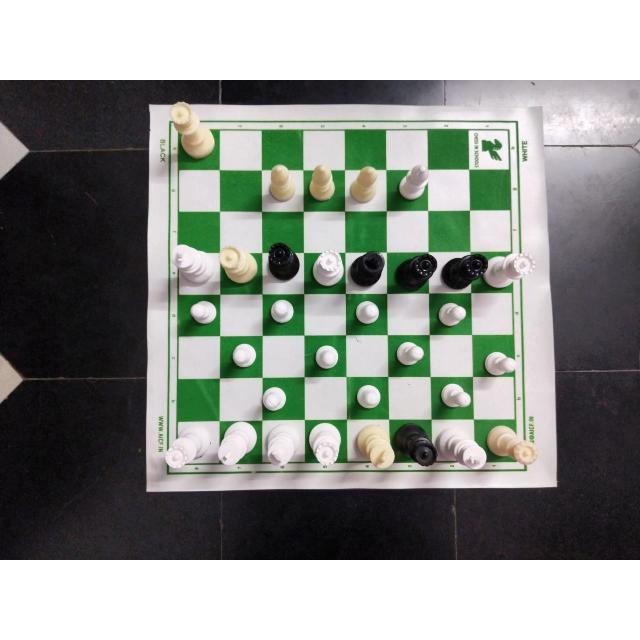black-king: (353, 249, 385, 290)
black-queen: (445, 246, 489, 298), (391, 246, 437, 288), (396, 422, 436, 470), (269, 241, 303, 289)
white-bishop: (394, 159, 431, 201), (267, 160, 297, 200), (351, 167, 378, 209), (310, 164, 333, 204)
white-king: (167, 240, 214, 292), (439, 425, 491, 469), (354, 426, 394, 472), (220, 423, 260, 467), (262, 425, 304, 465)
white-pawn: (482, 346, 518, 378), (182, 299, 219, 329), (437, 381, 475, 410), (352, 293, 381, 329), (392, 340, 428, 368), (353, 379, 383, 411), (261, 381, 289, 414), (438, 298, 468, 328), (309, 342, 339, 372), (269, 298, 299, 326), (226, 344, 259, 369)
white-queen: (171, 102, 215, 157), (161, 425, 211, 471), (216, 242, 259, 289), (485, 426, 537, 464), (487, 253, 539, 289), (306, 421, 346, 464), (308, 247, 348, 288)
